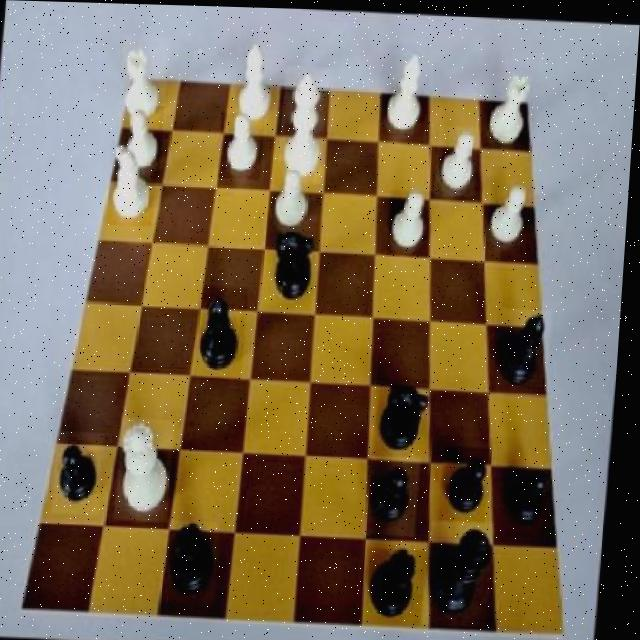bishop: (197, 285, 252, 380), (500, 305, 557, 393)
black-bishop: (429, 518, 502, 624)
black-king: (266, 219, 320, 312), (380, 375, 440, 454)
black-knight: (373, 454, 428, 535), (59, 430, 111, 514), (502, 458, 560, 527), (446, 443, 497, 520)
black-queen: (368, 546, 433, 625), (170, 518, 229, 600)
black-rook: (380, 41, 432, 135), (231, 38, 282, 129)
white-bishop: (279, 65, 331, 183)
white-king: (109, 143, 160, 227)
white-knight: (118, 103, 166, 176), (390, 188, 438, 256), (273, 159, 317, 233), (436, 122, 481, 194), (219, 110, 266, 177), (488, 178, 532, 245)
white-pawn: (121, 417, 182, 522)
white-queen: (481, 62, 541, 144), (118, 35, 170, 124)
